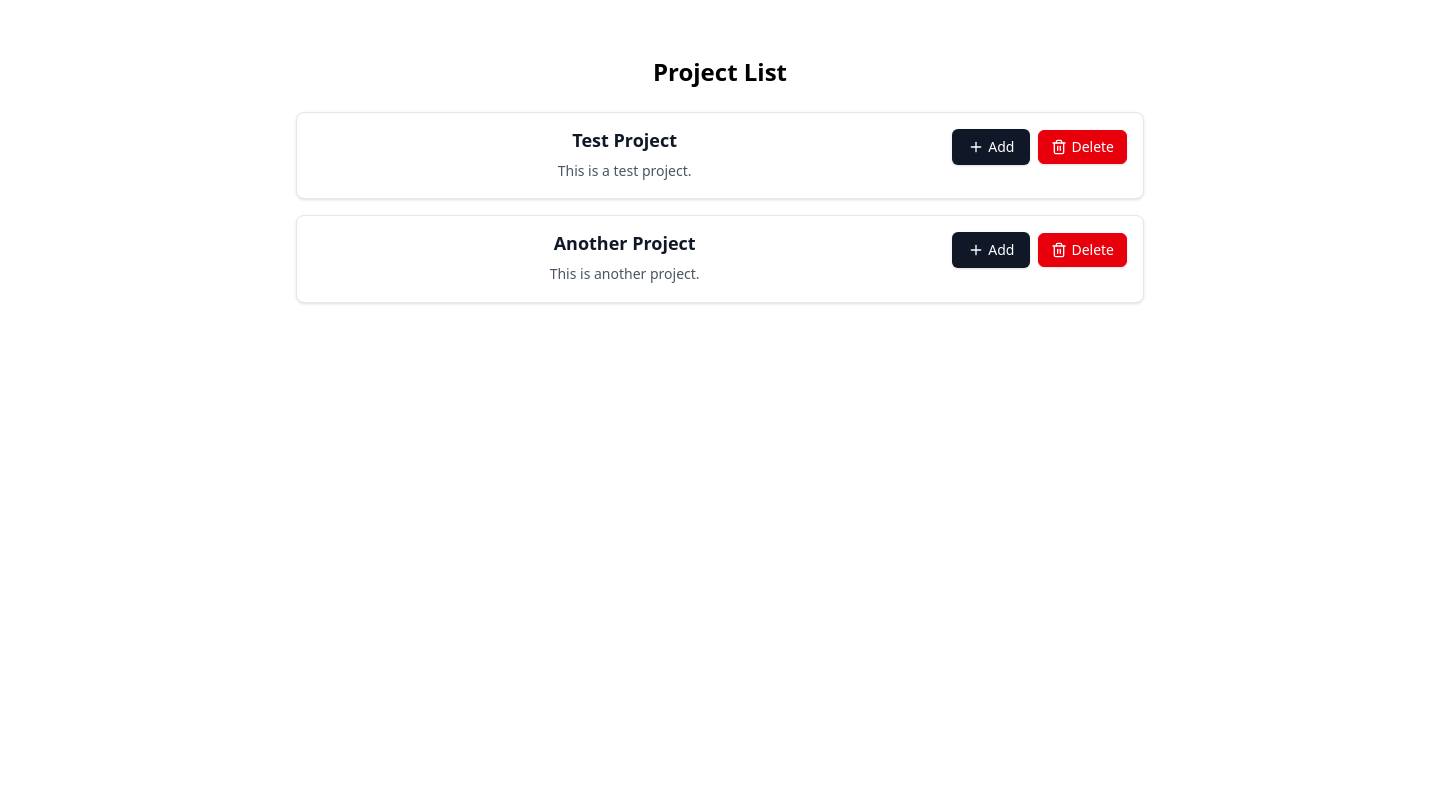
it: ListExample › deletes the item when confirming in alert dialog
Expected: the heading "Test Project" is shown, 572,128 -> 677,152
Expected: the heading "Another Project" is shown, 554,231 -> 696,255
Click the button with test id "delete-button-1".
click(1083, 147)  # box 1038,130 -> 1127,164
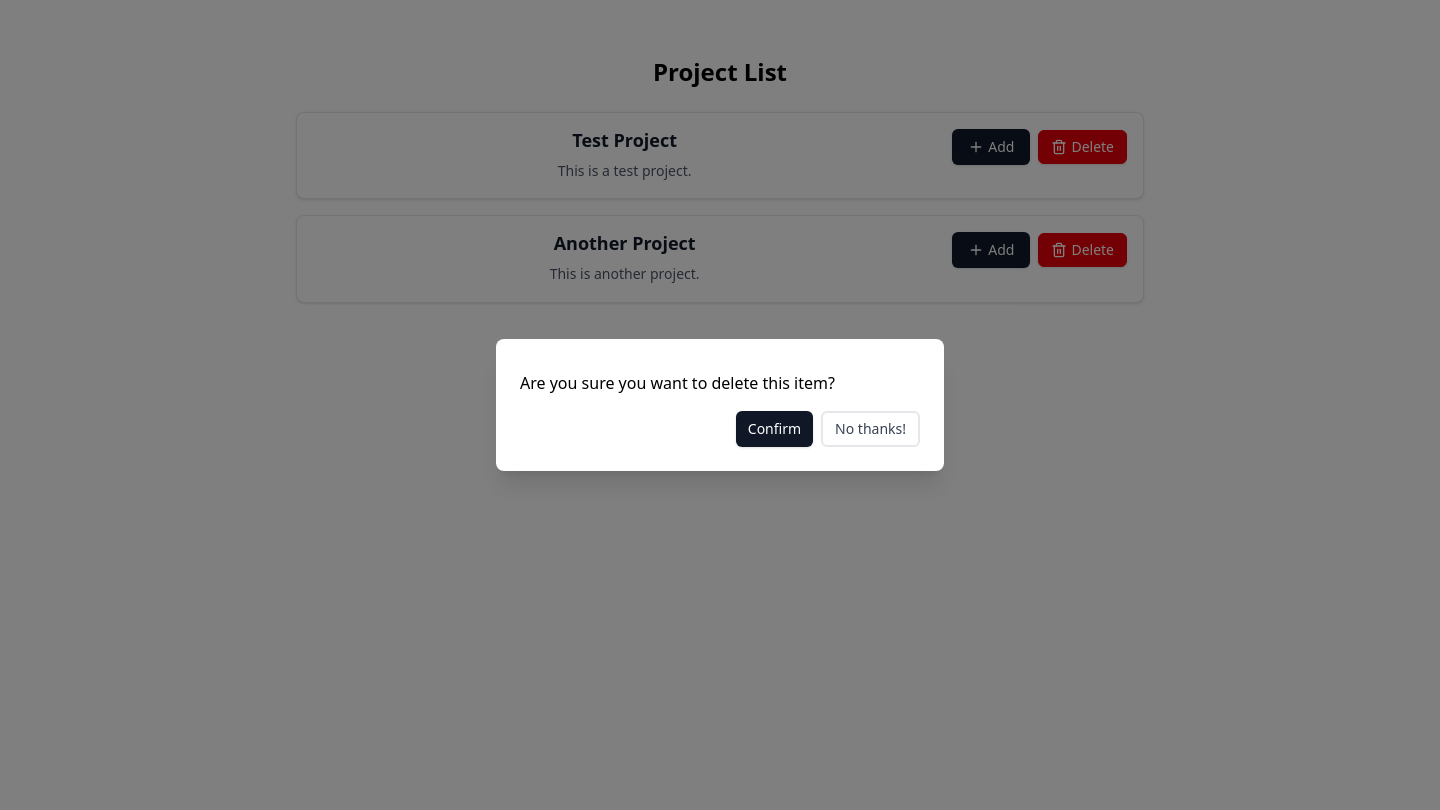
Click the button "Confirm".
click(774, 429)  # box 736,411 -> 813,447
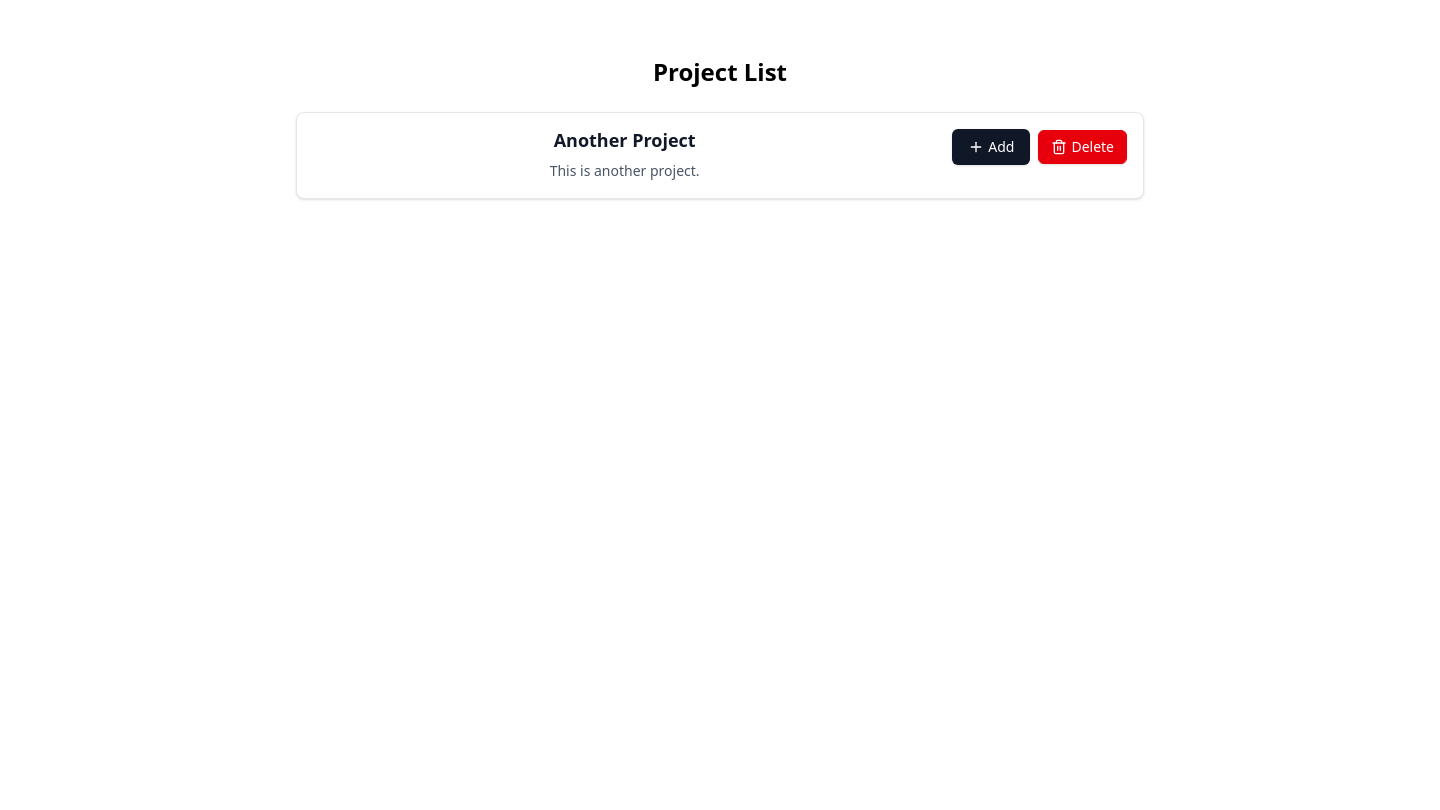
Expected: the heading "Another Project" is shown, 554,128 -> 696,152
Result: the heading "Test Project" is gone
